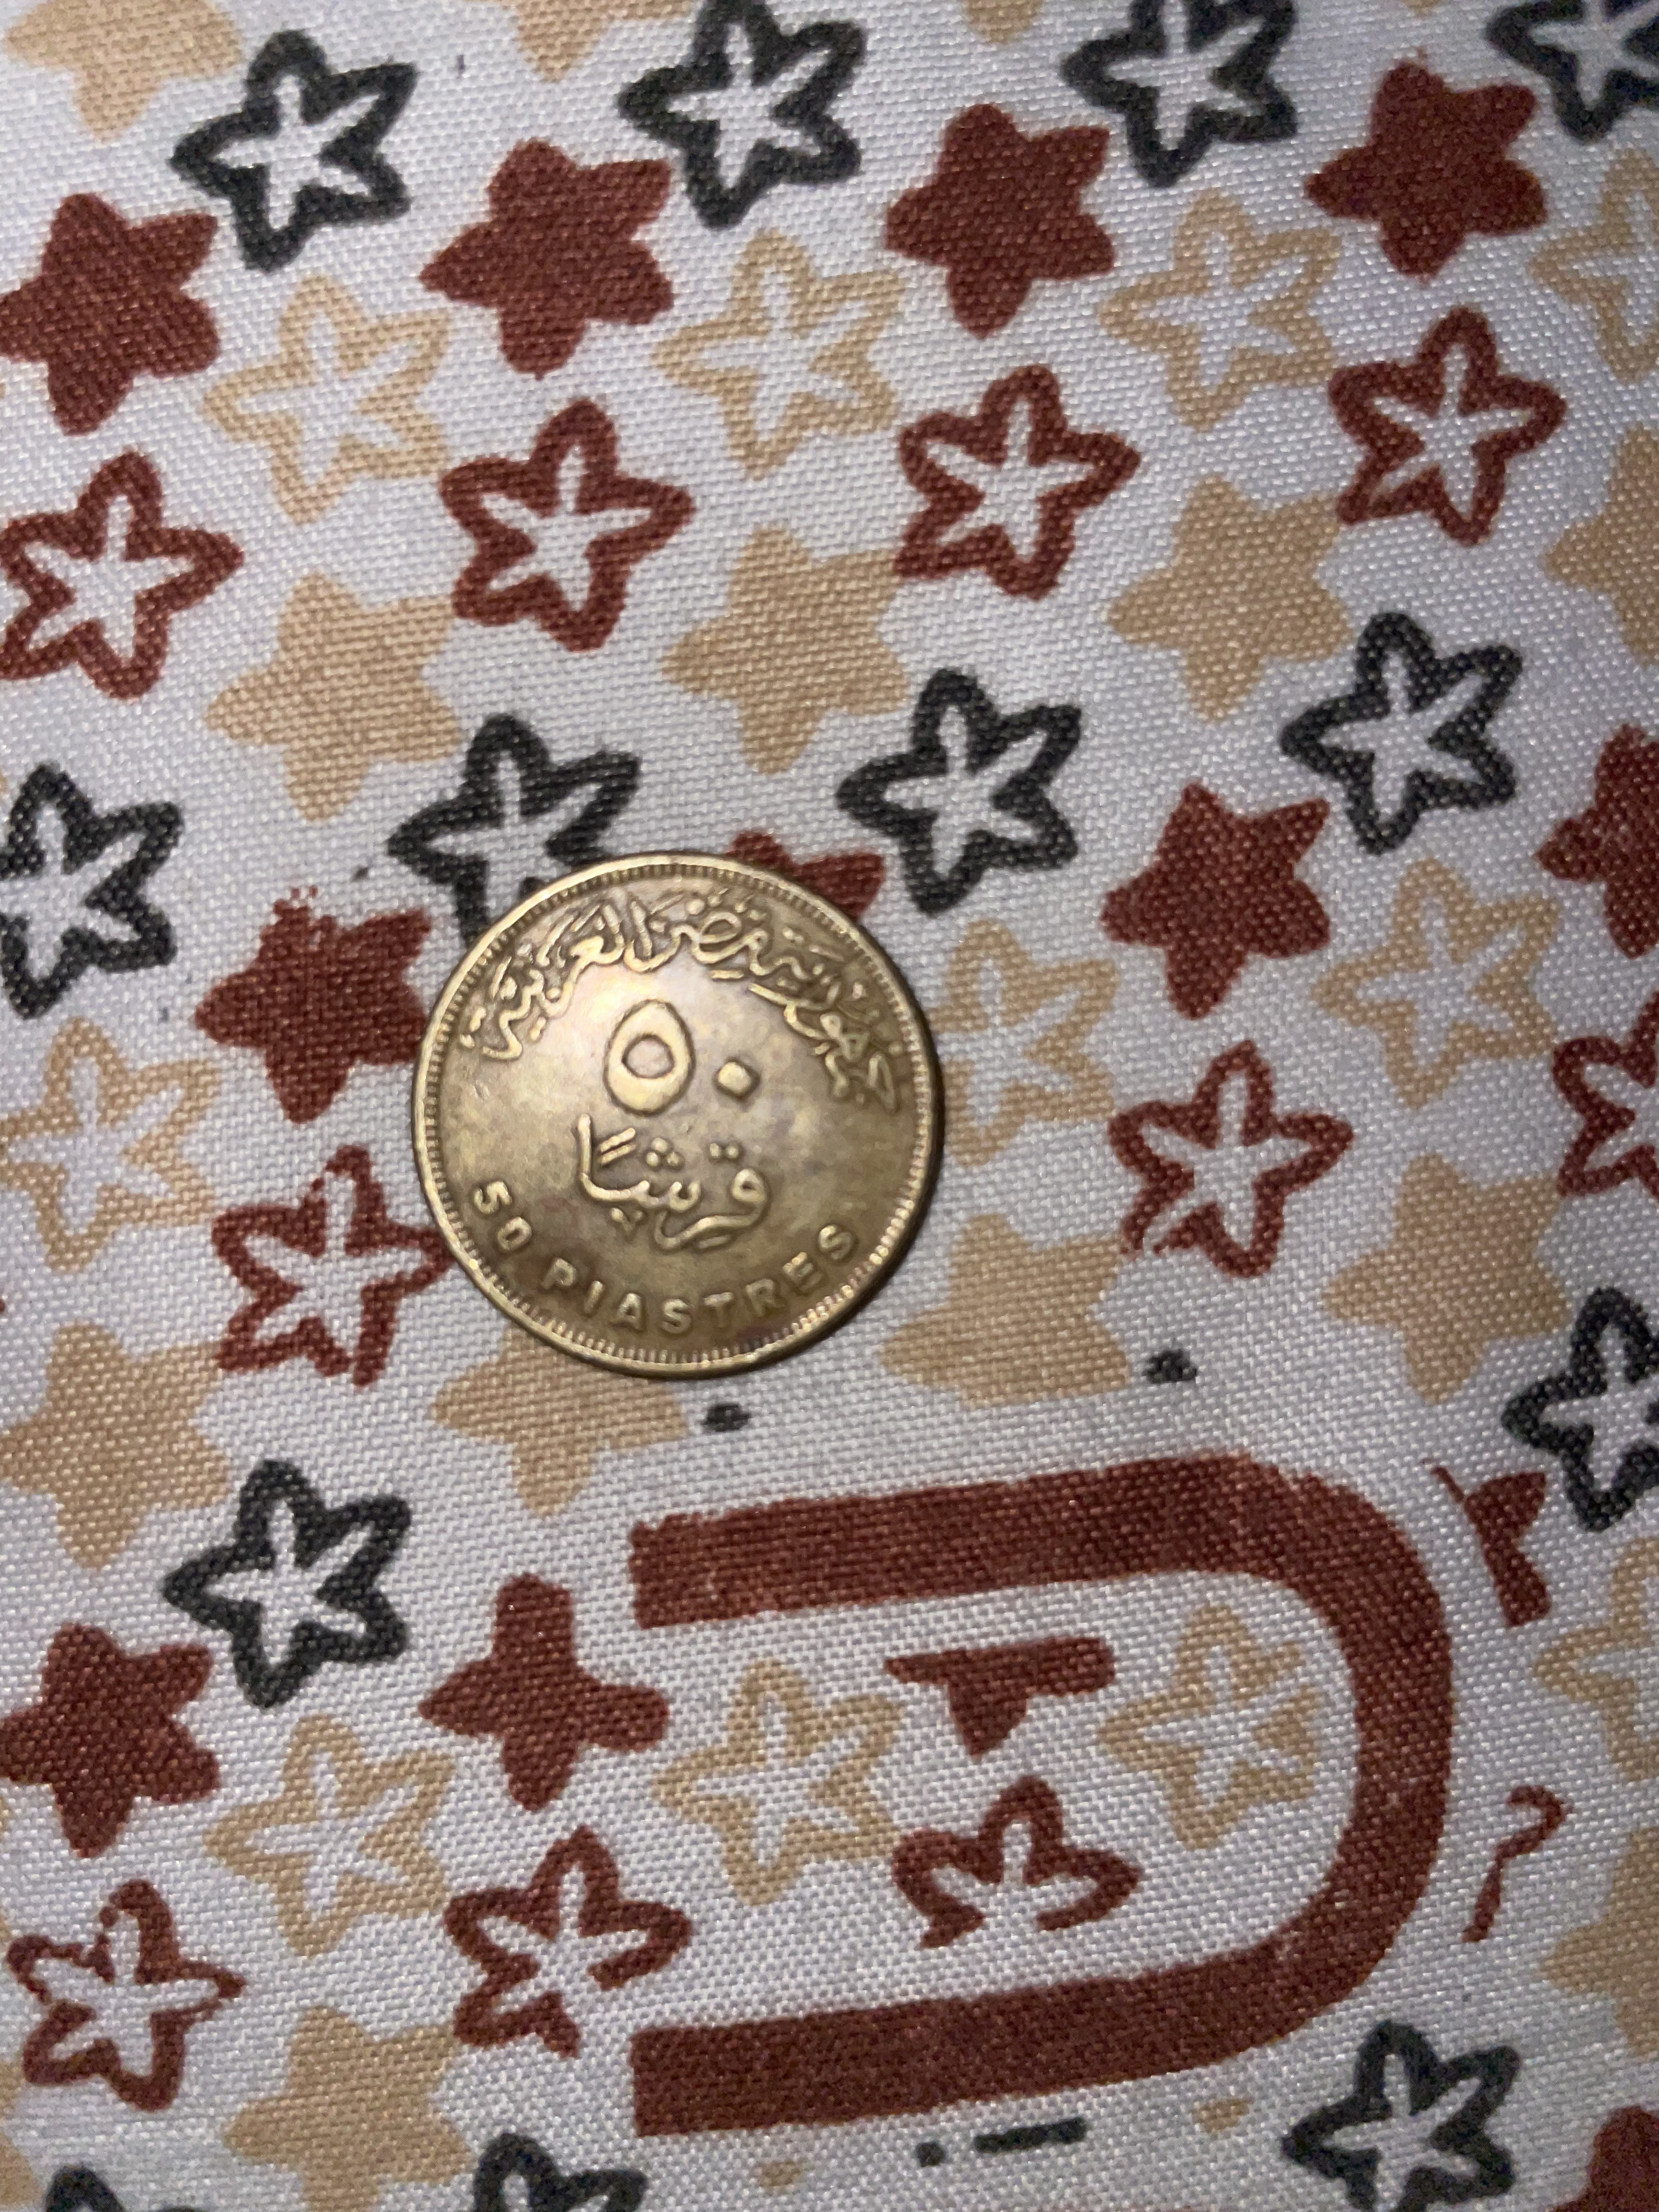half: (401, 846, 957, 1381)
